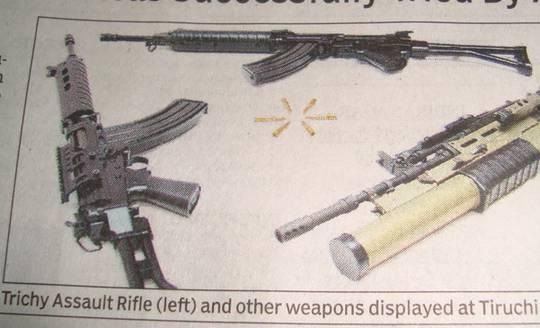rifle: (44, 31, 208, 285), (101, 27, 538, 82)
